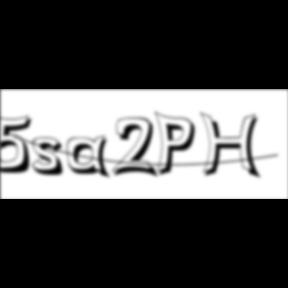2: (112, 117, 162, 181)
5: (0, 114, 38, 176)
H: (200, 112, 266, 182)
P: (154, 110, 202, 180)
a: (67, 135, 115, 182)
s: (32, 137, 72, 179)
